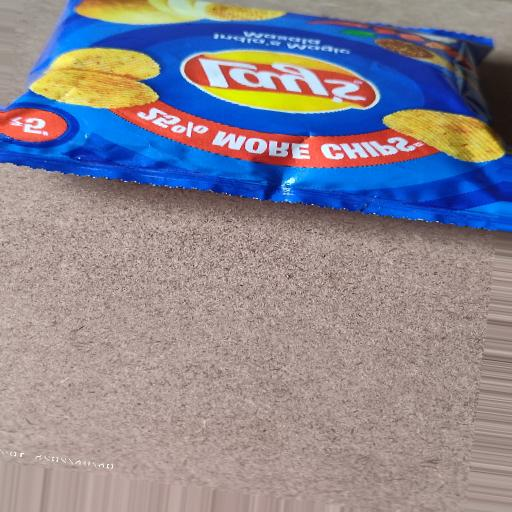Lays Blue (India Masala magic): (0, 4, 511, 245)
